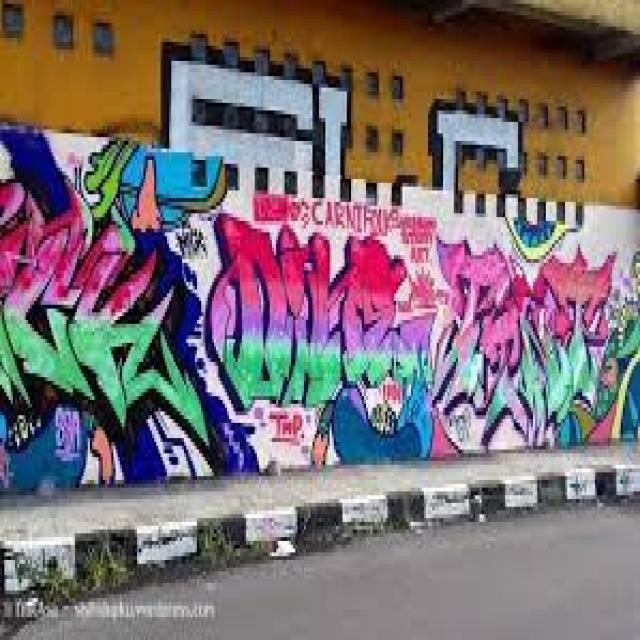-: (1, 125, 640, 488), (164, 38, 531, 187)
